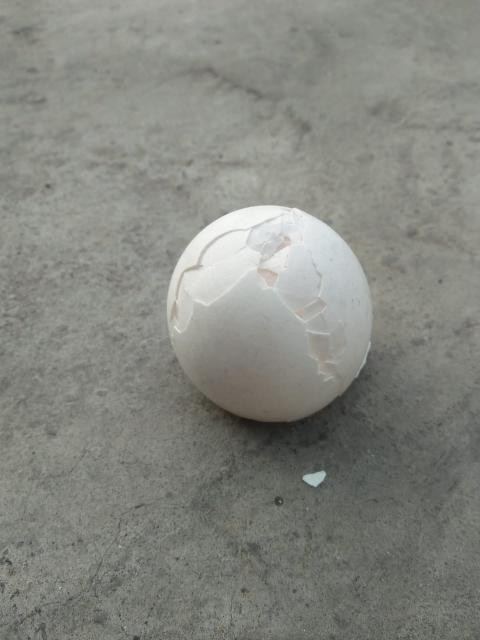Roto: (165, 204, 374, 424)
